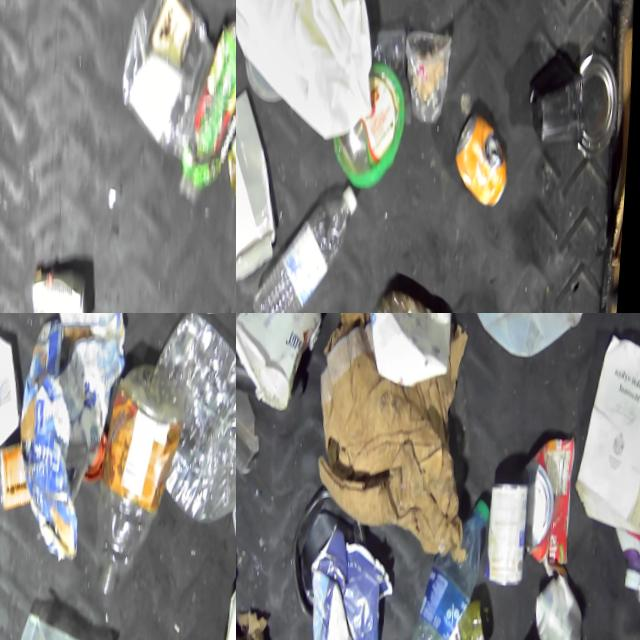can: (534, 50, 622, 162), (523, 439, 585, 573), (451, 114, 517, 220), (486, 483, 538, 594), (35, 263, 100, 313)
milk_jug: (236, 0, 389, 149)
plastic_bottle: (251, 182, 369, 313), (410, 504, 498, 640), (464, 313, 588, 361)
